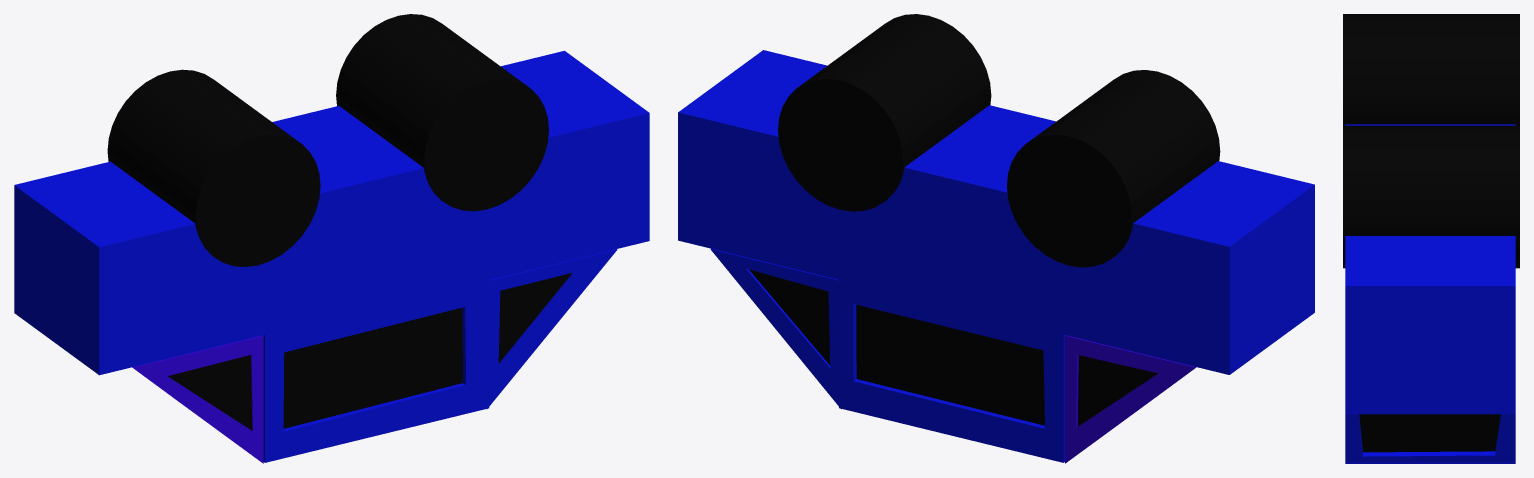
File: car.fbx
The picture shows the model from 3 angles, left to right: view 1: azimuth 30°, elevation 25°; view 2: azimuth 150°, elevation 25°; view 3: azimuth 270°, elevation 25°; orthographic projection.
Visible parts, largest first — view 1: Cube.003, Cube, Cylinder, Cylinder.001, Cube.002, Cube.001; view 2: Cube.003, Cube, Cylinder, Cylinder.001, Cube.002, Cube.001; view 3: Cube.003, Cylinder, Cylinder.001, Cube.001, Cube.
Part boxes in pixels (x1,y1,x2,y2): Cube.003: (14, 50, 649, 375); Cube: (263, 280, 489, 462); Cylinder: (336, 14, 548, 211); Cylinder.001: (107, 69, 320, 266); Cube.002: (132, 335, 263, 463); Cube.001: (487, 249, 617, 408); Cube.003: (678, 50, 1314, 374); Cube: (839, 280, 1065, 462); Cylinder: (778, 14, 991, 211); Cylinder.001: (1007, 70, 1220, 267); Cube.002: (1065, 335, 1196, 463); Cube.001: (710, 248, 841, 409); Cube.003: (1345, 124, 1515, 414); Cylinder: (1343, 125, 1519, 268); Cylinder.001: (1343, 14, 1519, 125); Cube.001: (1345, 414, 1515, 462); Cube: (1345, 462, 1515, 463).
Bounding box in the file's own units: 900 × 516 × 250.
